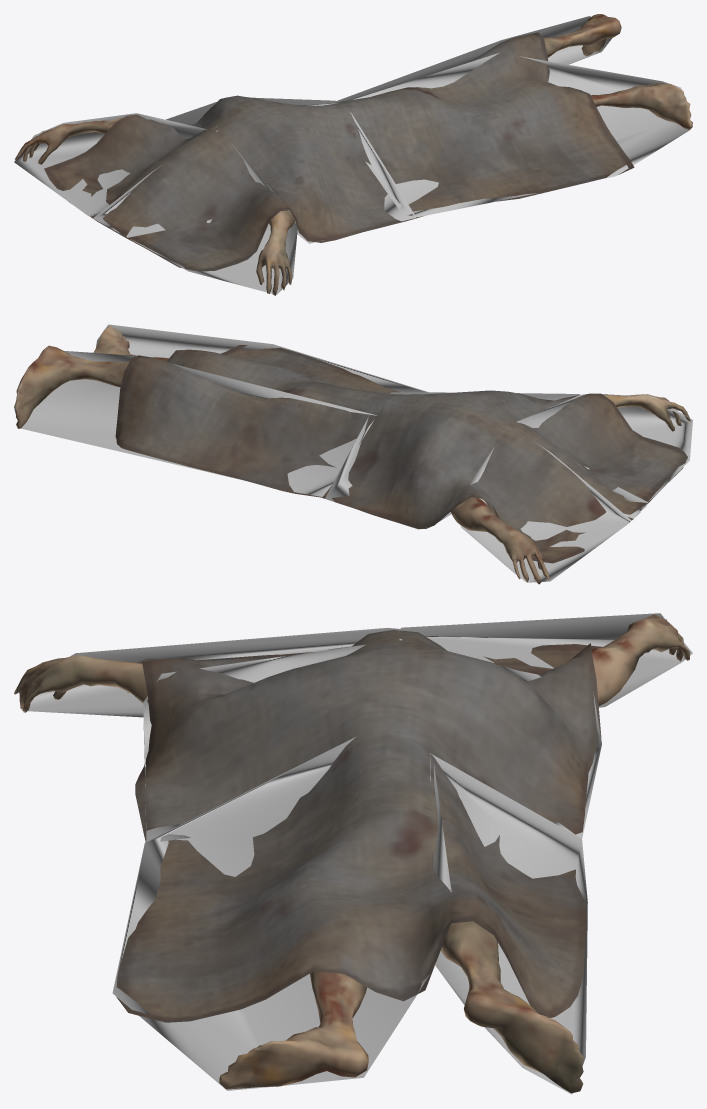
Rendered from SM_CoveredBody_01a.gltf.
3 views of the same model, one above another, from view 1: azimuth 30°, elevation 25°; view 2: azimuth 150°, elevation 25°; view 3: azimuth 270°, elevation 25° (orthographic). The views are drawn at different scales.
Visible parts, largest first — view 1: SM_CoveredBody_01a_LOD0, SM_CoveredBody_01a_ConvexHulls; view 2: SM_CoveredBody_01a_LOD0, SM_CoveredBody_01a_ConvexHulls; view 3: SM_CoveredBody_01a_LOD0, SM_CoveredBody_01a_ConvexHulls.
Part boxes in pixels (x1=…): SM_CoveredBody_01a_LOD0: x1=15, y1=14, x2=692, y2=295; SM_CoveredBody_01a_ConvexHulls: x1=14, y1=16, x2=689, y2=294; SM_CoveredBody_01a_LOD0: x1=14, y1=325, x2=690, y2=584; SM_CoveredBody_01a_ConvexHulls: x1=14, y1=324, x2=692, y2=582; SM_CoveredBody_01a_LOD0: x1=14, y1=614, x2=689, y2=1093; SM_CoveredBody_01a_ConvexHulls: x1=19, y1=613, x2=692, y2=1094.
Size of what is drawn, in the model's own units: 2.36 by 0.3257 by 1.51.
Materials: 2 (1 with a texture image).
